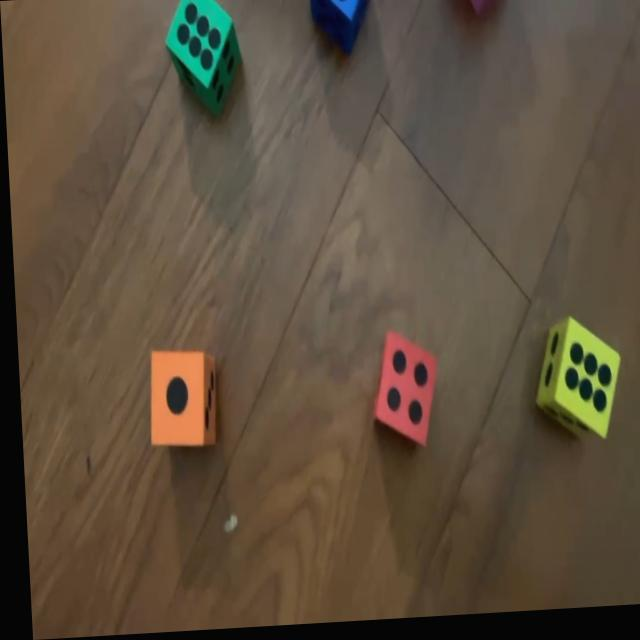blue_block: (309, 0, 374, 55)
red_block: (364, 332, 436, 453)
